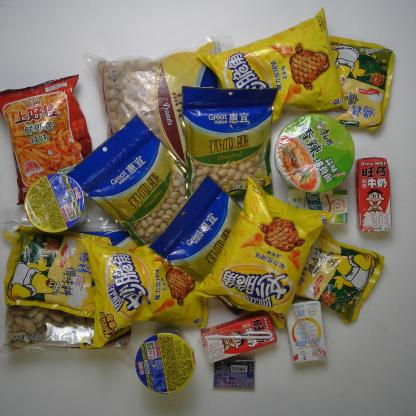Dried Food: (80, 35, 266, 184), (2, 199, 142, 359)
Dried Fruit: (65, 111, 215, 258), (147, 173, 287, 307), (181, 83, 283, 205)
Gum: (212, 357, 256, 390)
Instant Noodles: (272, 107, 360, 198), (20, 167, 88, 238), (132, 324, 198, 396)
Milk: (197, 307, 281, 365), (353, 155, 394, 232), (284, 299, 329, 364), (284, 186, 349, 224)
Puffed Food: (192, 174, 336, 336), (76, 222, 221, 358), (191, 7, 347, 127), (0, 73, 107, 207)
Seasoner: (2, 227, 122, 321), (290, 222, 388, 326), (315, 35, 397, 134)
